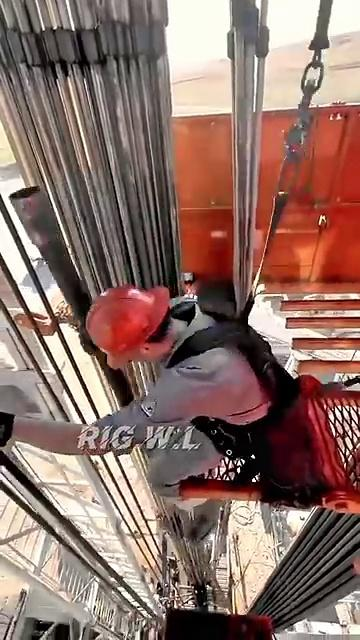helmet: (87, 272, 177, 362)
shoes: (172, 473, 235, 577)
worker: (43, 255, 359, 587)
